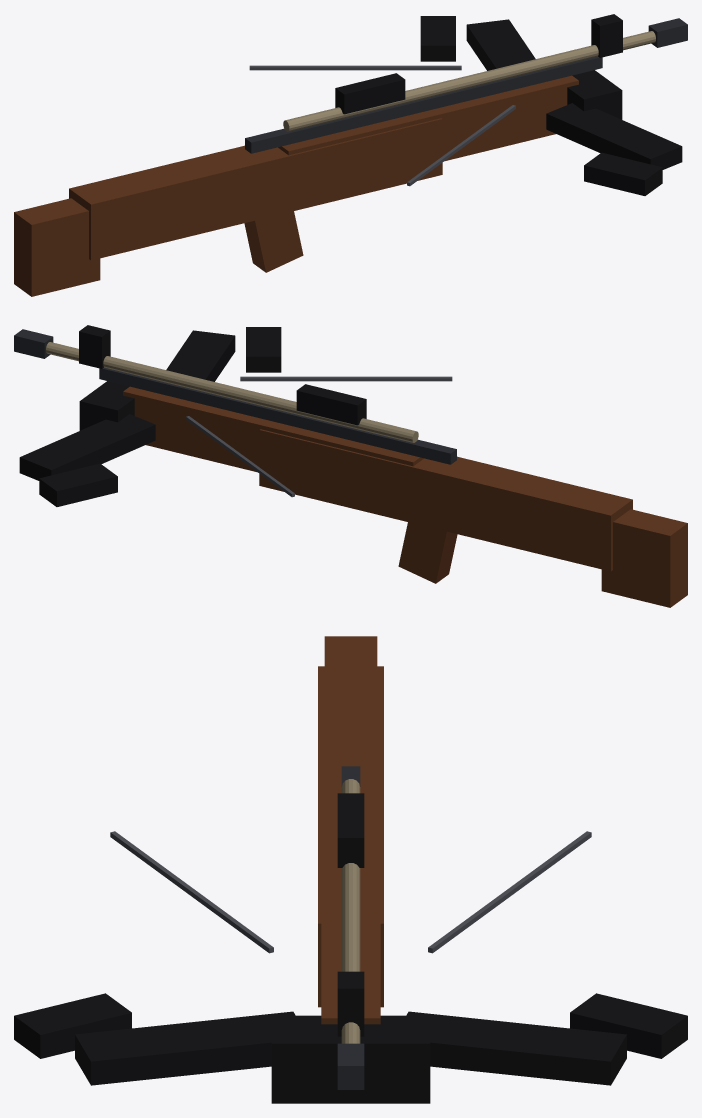
The model's file is Crossbow.obj.
3 views of the same model, one above another, from view 1: azimuth 30°, elevation 25°; view 2: azimuth 150°, elevation 25°; view 3: azimuth 270°, elevation 25° (orthographic). The views are drawn at different scales.
Visible parts, largest first — view 1: Cube; view 2: Cube; view 3: Cube.
Part boxes in pixels (x1,y1,x2,y2): Cube: [14, 14, 687, 296]; Cube: [14, 325, 687, 607]; Cube: [14, 636, 687, 1103].
Bounding box in the file's own units: 0.865 × 0.2042 × 0.5093.
